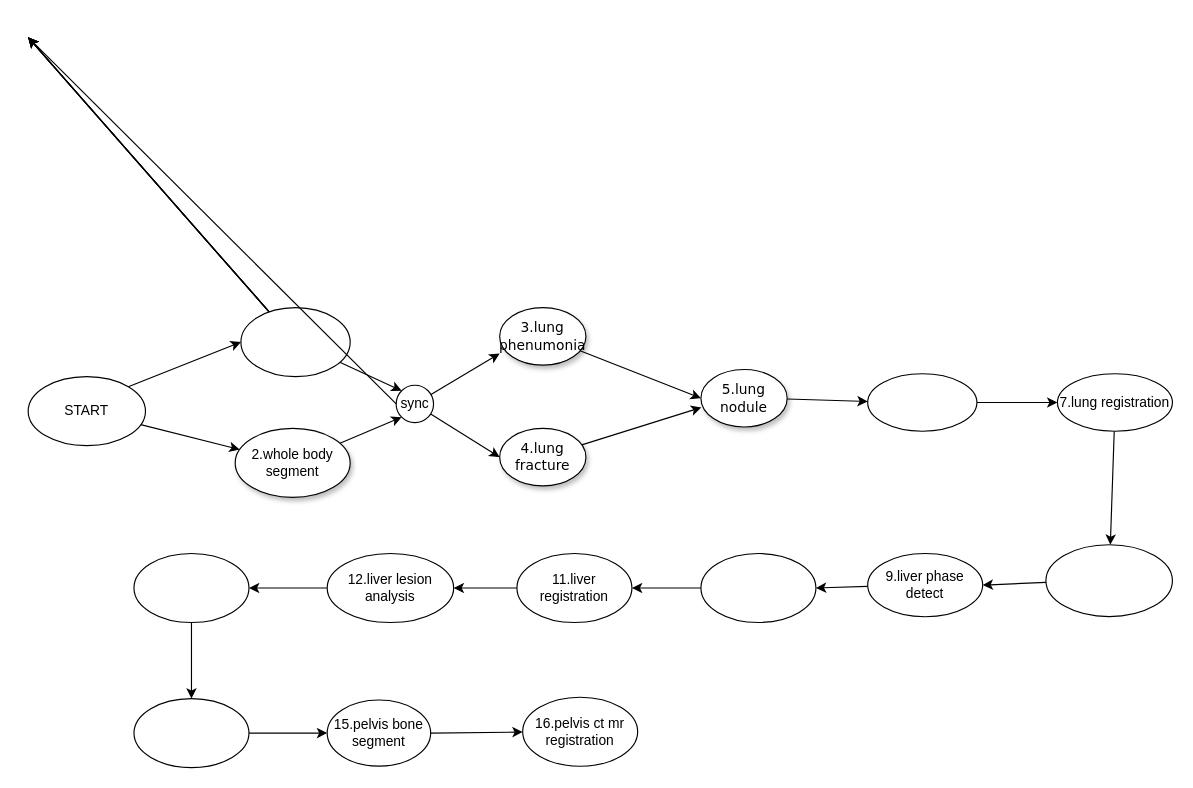
The diagram is 1193 pixels wide and 788 high, and some of its shapes have lost their labels. The centre of each missing label's shape, as x and y in pixels:
"1.body part locate" goes at pixel 295 341.
"10.liver organ segment" goes at pixel 758 587.
"13.liver global analysis" goes at pixel 191 587.
"14.liver ct mr registration" goes at pixel 191 732.
"6.lung result" goes at pixel 922 402.
"8.cardiac coronary" goes at pixel 1108 580.
